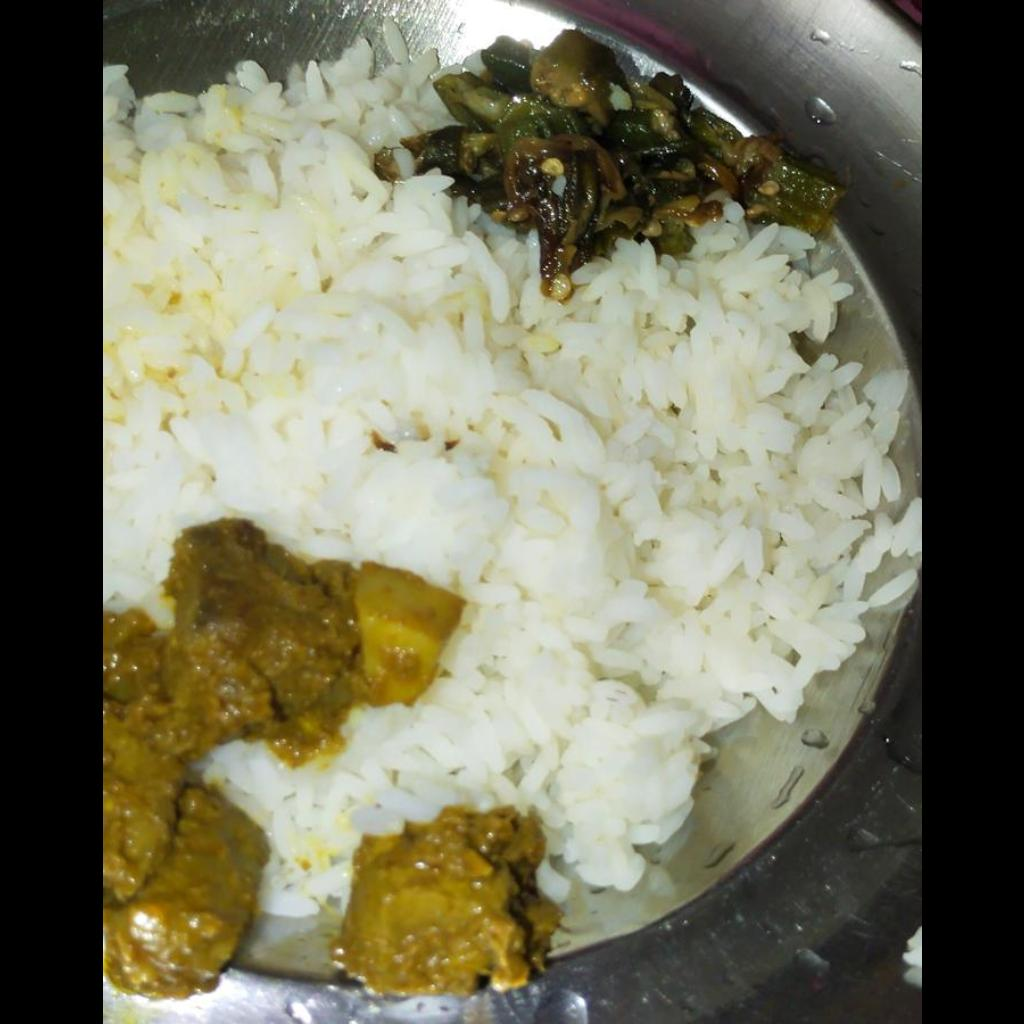beef: (102, 524, 563, 991)
okra: (398, 30, 839, 288)
rice: (102, 30, 920, 898)
